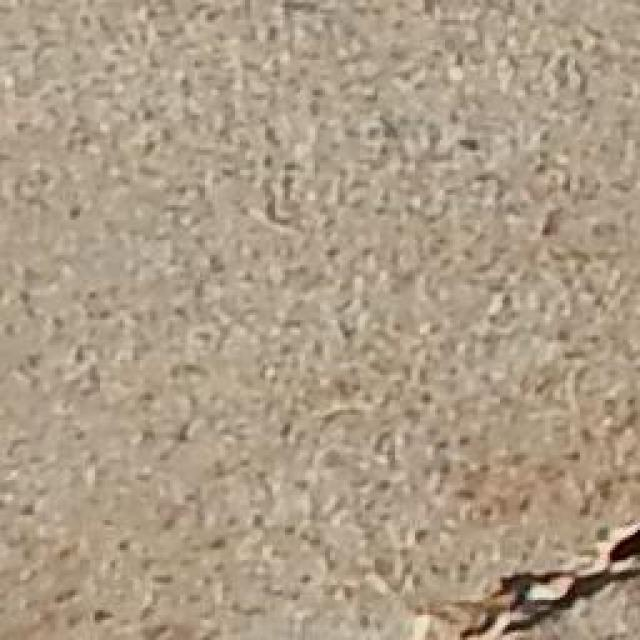concrete-crack: (449, 520, 640, 640)
